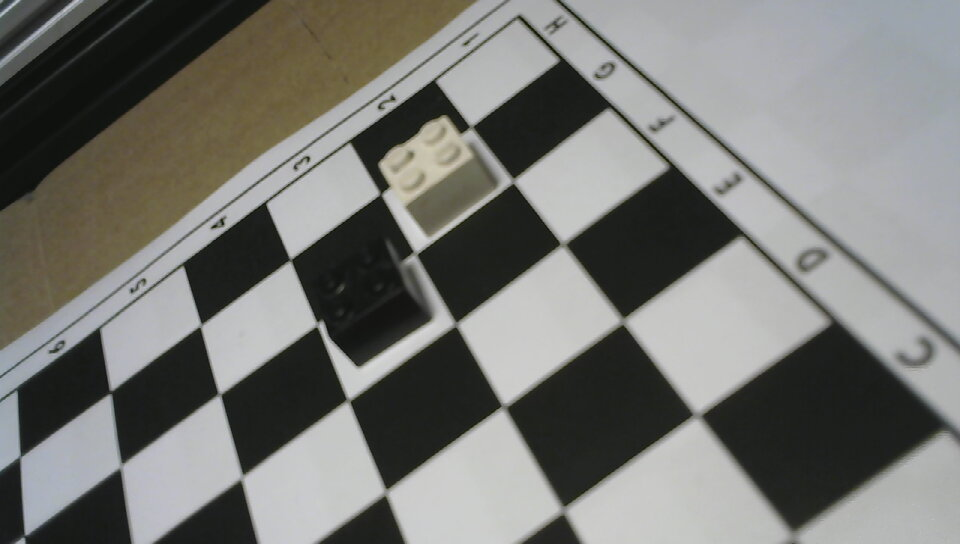wp: (374, 106, 504, 238)
